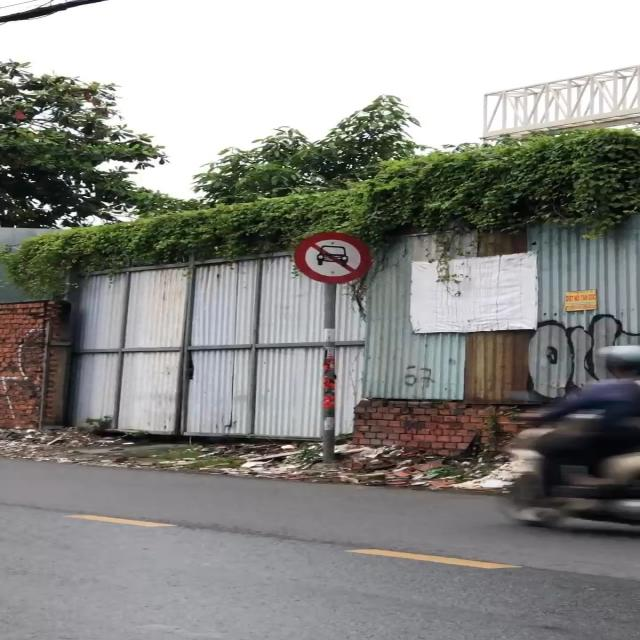Bien bao cam xe oto: (290, 231, 379, 286)
